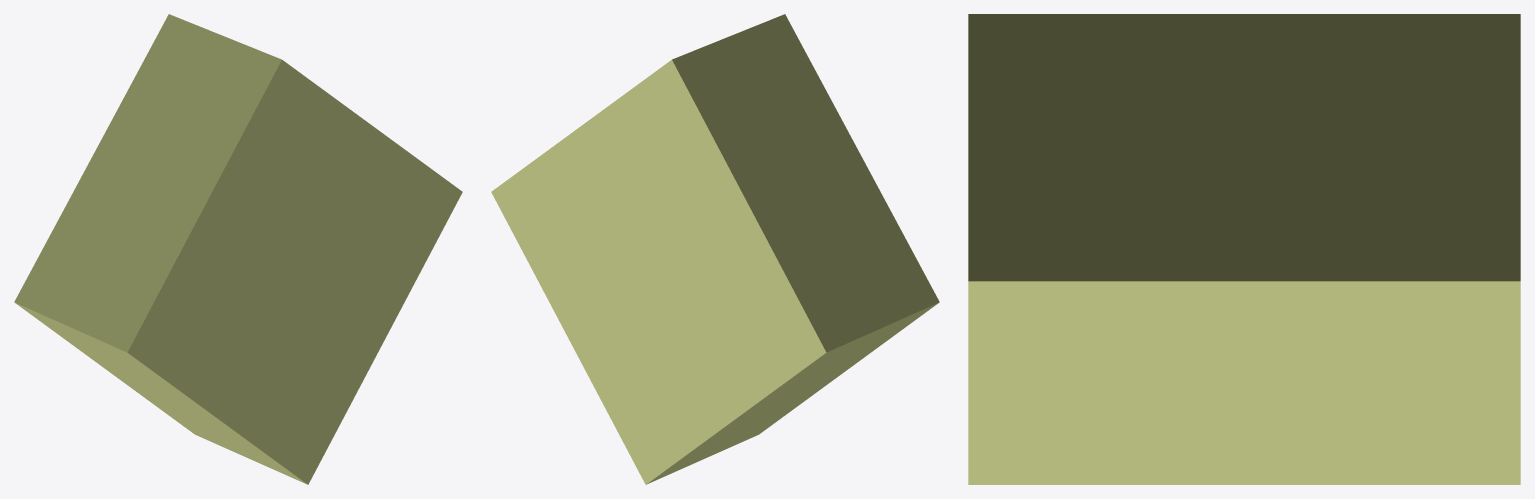
3 renders of one model, left to right at view 1: azimuth 30°, elevation 25°; view 2: azimuth 150°, elevation 25°; view 3: azimuth 270°, elevation 25°, orthographic. The views are drawn at different scales.
Visible parts, largest first — view 1: 0_0_1_2_0_0_0_0_3_3_1; view 2: 0_0_1_2_0_0_0_0_3_3_1; view 3: 0_0_1_2_0_0_0_0_3_3_1.
Part boxes in pixels (x1,y1,x2,y2): 0_0_1_2_0_0_0_0_3_3_1: (14, 14, 462, 484); 0_0_1_2_0_0_0_0_3_3_1: (491, 14, 939, 484); 0_0_1_2_0_0_0_0_3_3_1: (968, 14, 1520, 484).
Size of the model in its own units: 7.7 by 9.02 by 9.
